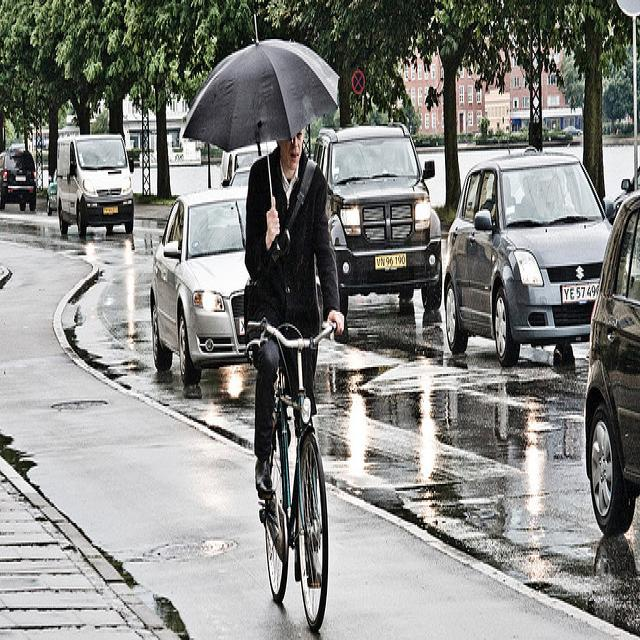Vehicle: (442, 151, 614, 375), (313, 118, 441, 319), (152, 189, 253, 390), (585, 191, 639, 540), (58, 135, 136, 246), (221, 140, 278, 190), (0, 143, 38, 215), (226, 153, 268, 192)
